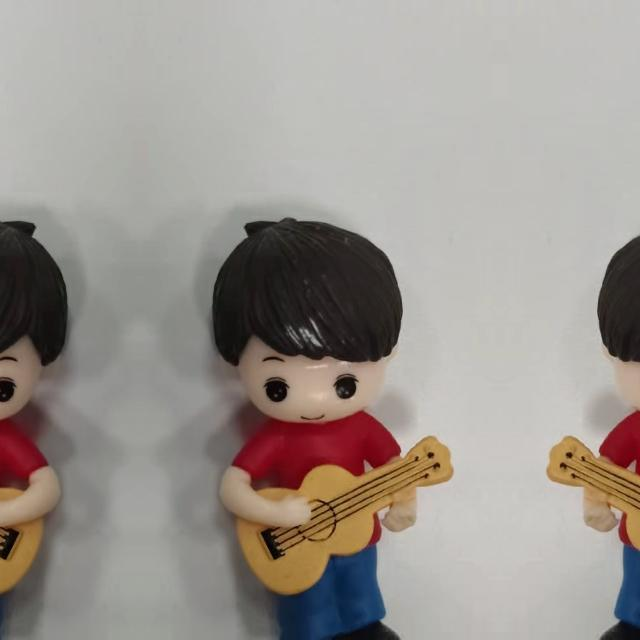man cloth: (225, 415, 413, 547), (0, 415, 55, 547), (587, 415, 640, 547)
man head: (207, 202, 409, 428), (0, 202, 73, 427), (591, 202, 640, 427)
trousers: (262, 549, 400, 633), (600, 549, 640, 633), (0, 549, 18, 633)
